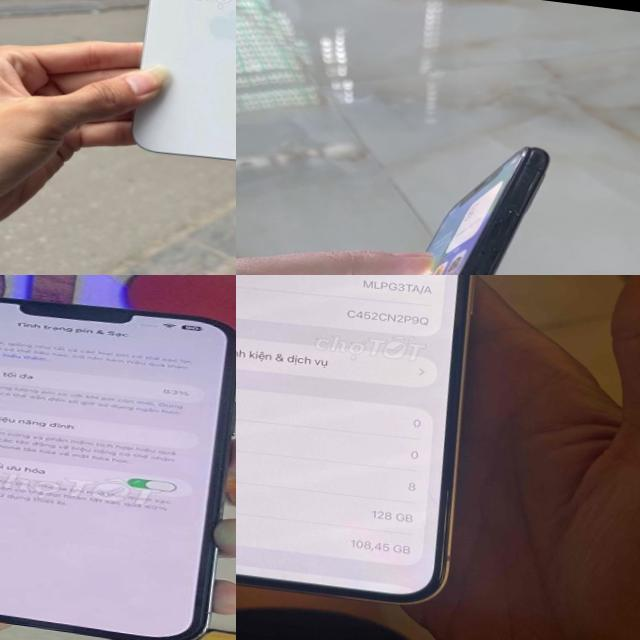gen_12_13: (236, 275, 505, 609), (0, 275, 236, 640)
gen_15: (113, 0, 236, 192)
gen_x_xs: (426, 147, 548, 275)
